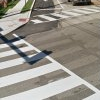crosswalk: (0, 38, 100, 100), (32, 6, 100, 23)
